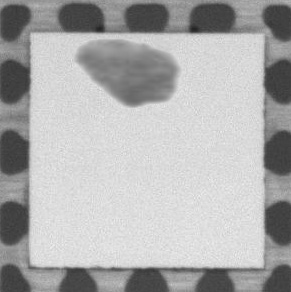DIE_INK: (71, 38, 179, 106)
